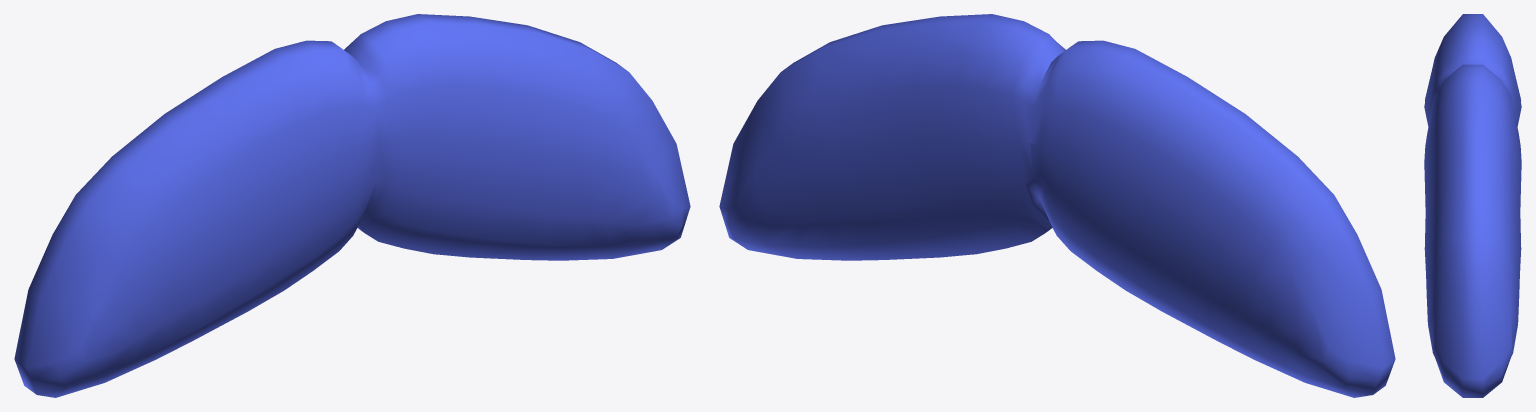
The model's file is Beard_01_03.fbx.
3 views of the same model, side by side, from view 1: azimuth 30°, elevation 25°; view 2: azimuth 150°, elevation 25°; view 3: azimuth 270°, elevation 25° (orthographic). The views are drawn at different scales.
Parts seen in each view (by area): view 1: Beard_01_03; view 2: Beard_01_03; view 3: Beard_01_03.
Part boxes in pixels (x1,y1,x2,y2): Beard_01_03: (14,14,690,397); Beard_01_03: (719,14,1395,397); Beard_01_03: (1424,14,1521,397).
Size of the model in its own units: 15.94 by 6.52 by 2.55.
